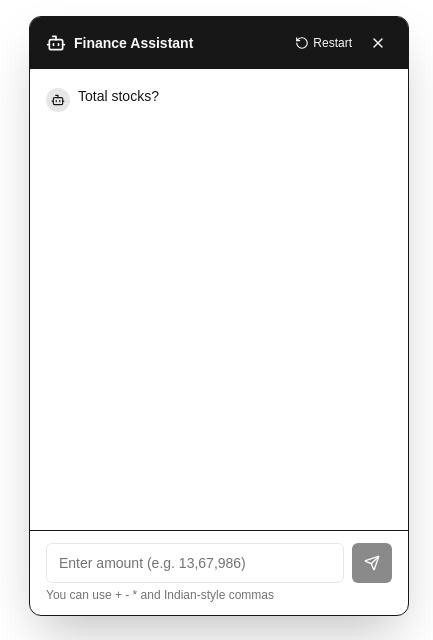
Scenario: FinanceAssistantChat Input Validation › should accept valid amount and advance to next step
Expected: the text "Total stocks?" is shown, [78,88,159,104]
In the field with placeholder "Enter amount (e.g. 13,67,986)": (195, 563) [46,543,344,583], type "13,67,986"
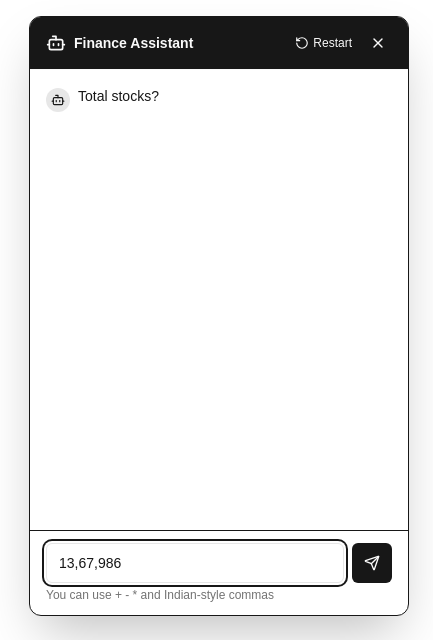
Press Enter
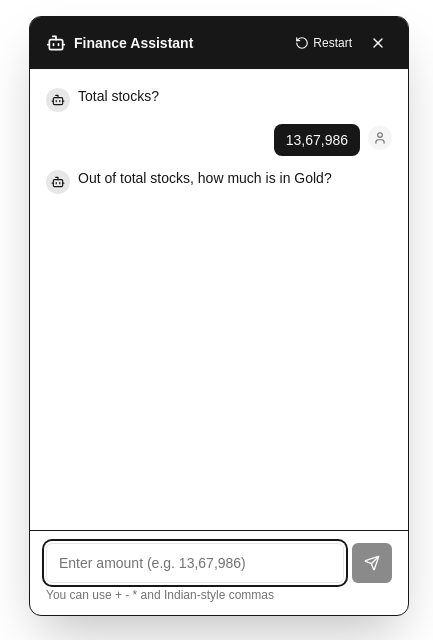
Expected: the text "Out of total stocks, how much is in Gold?" is shown, [78,170,332,186]
